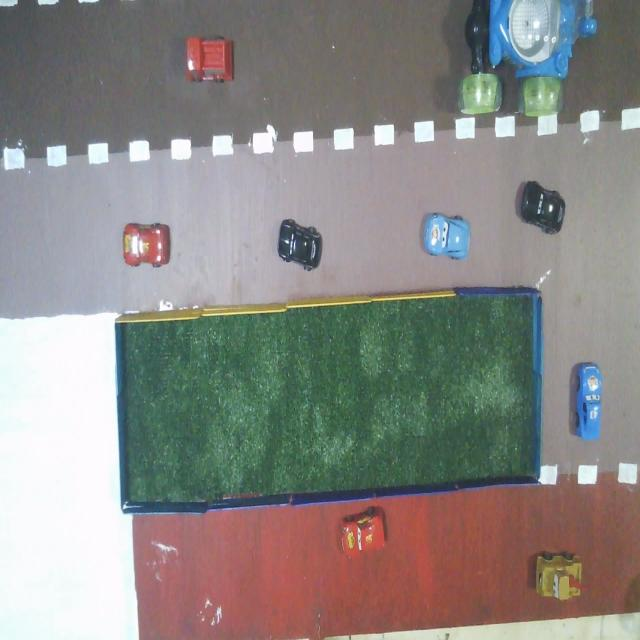small cars: (521, 181, 565, 234), (278, 220, 321, 270), (536, 553, 581, 600), (342, 507, 384, 557), (424, 214, 470, 259), (187, 37, 233, 82), (123, 223, 170, 267), (576, 363, 601, 440)
